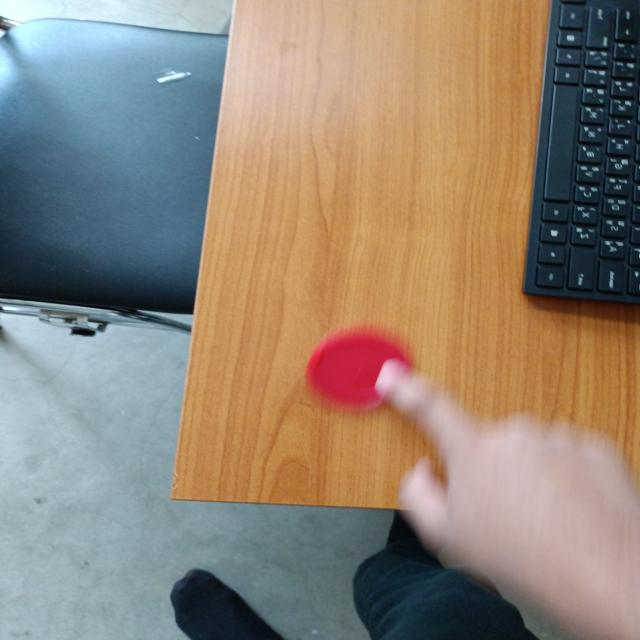chip: (298, 326, 416, 414)
